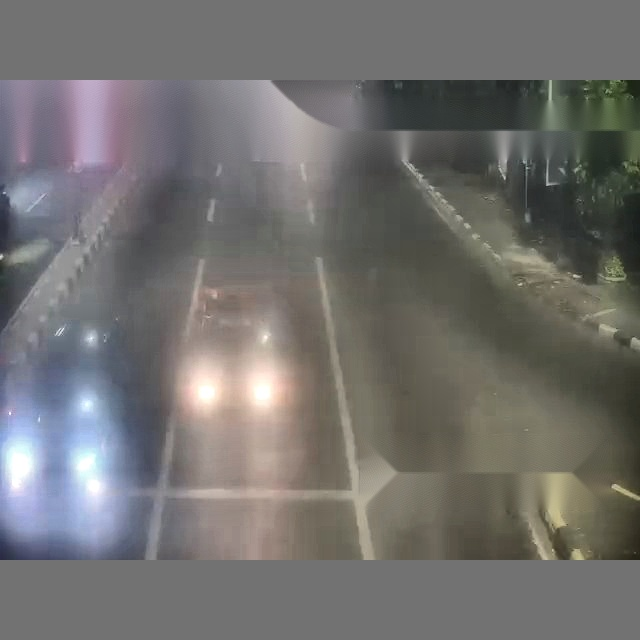Truk: (192, 60, 640, 557)
